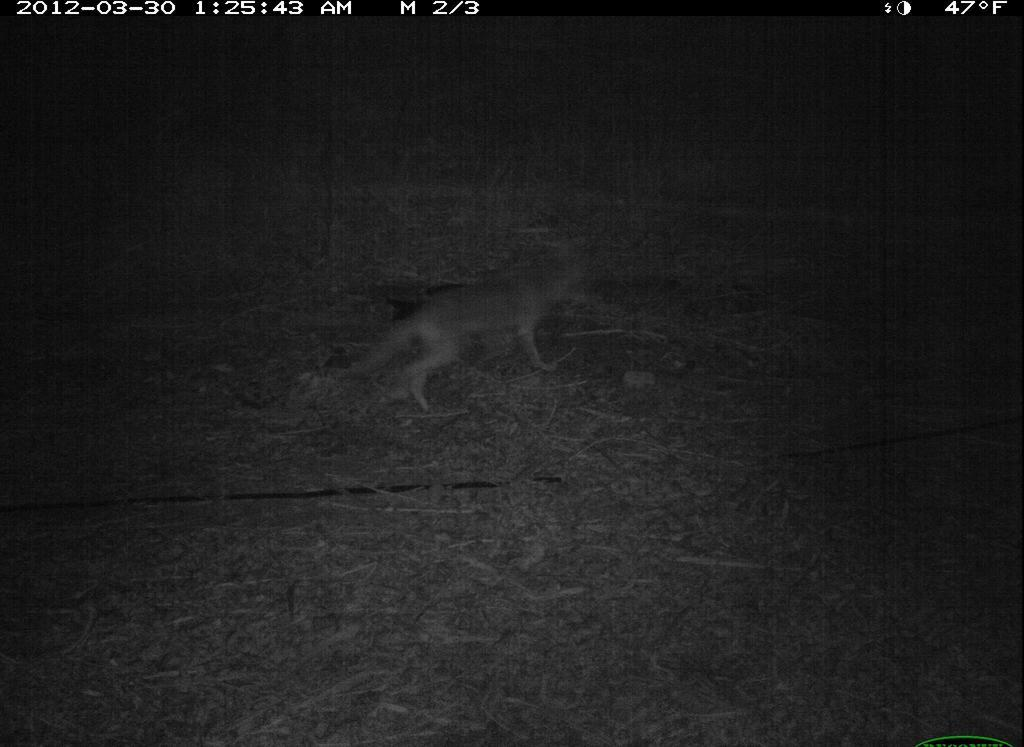coyote: (347, 228, 603, 424)
